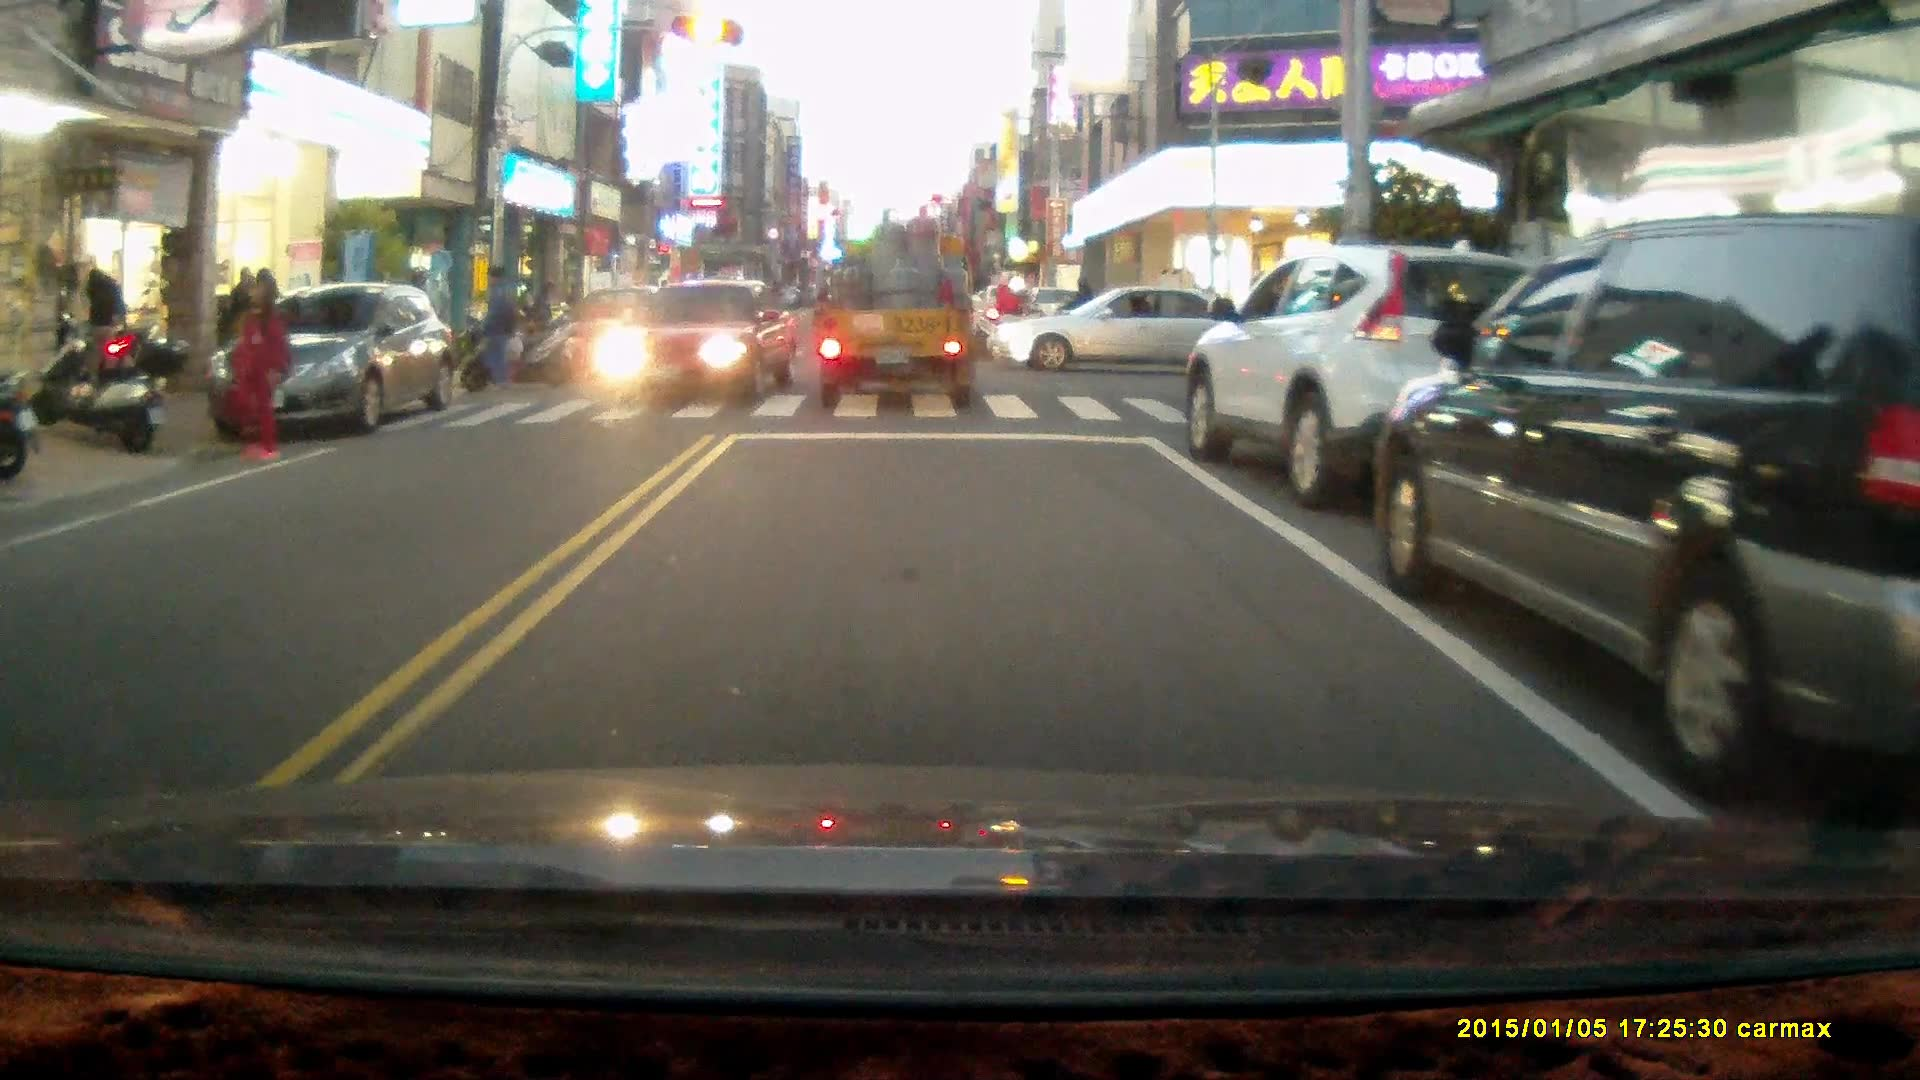pedestrian: (220, 271, 292, 463), (474, 267, 519, 399), (81, 264, 128, 383)
rider: (967, 266, 1053, 356)
vehicle: (1382, 213, 1920, 805), (1184, 245, 1584, 508), (208, 286, 448, 447), (815, 203, 991, 416), (592, 279, 801, 410), (1001, 287, 1270, 374)
